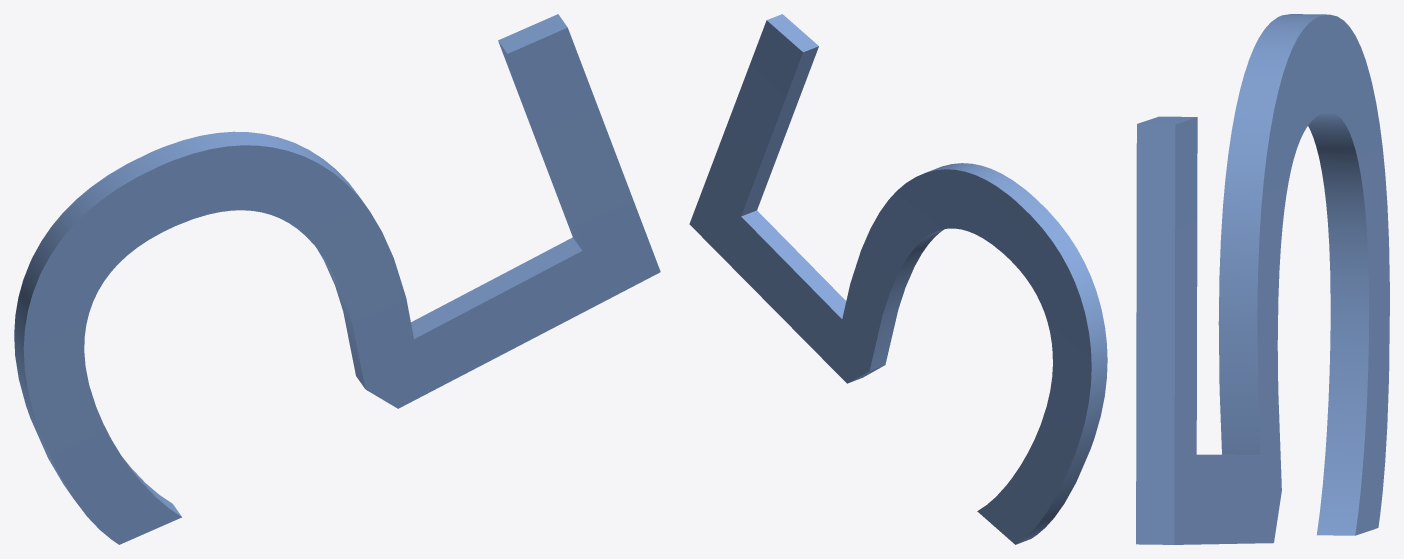
The model's file is New_Number_5.gltf.
3 views of the same model, side by side, from view 1: azimuth 30°, elevation 25°; view 2: azimuth 150°, elevation 25°; view 3: azimuth 270°, elevation 25° (orthographic). The views are drawn at different scales.
Visible parts, largest first — view 1: Part 464; view 2: Part 464; view 3: Part 464.
Part boxes in pixels (<box>): Part 464: <box>14,14,660,544</box>; Part 464: <box>689,14,1107,544</box>; Part 464: <box>1136,14,1389,544</box>.
Bounding box in the file's own units: 0.00567 × 0.00465 × 0.00164.
